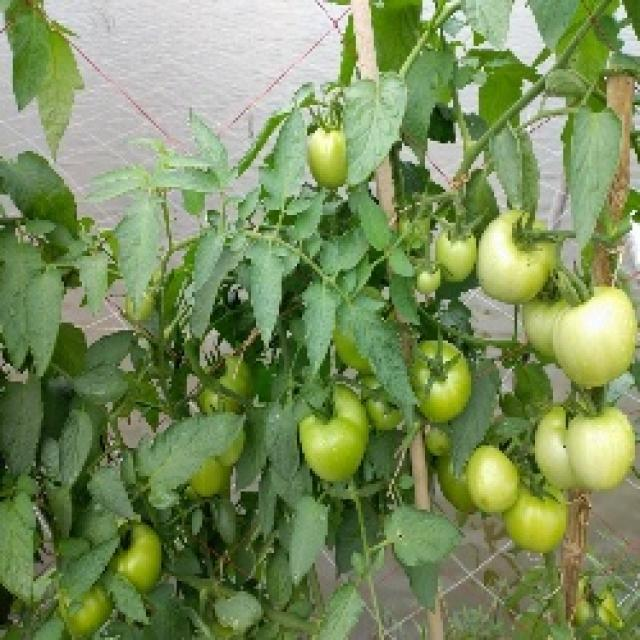tomato: (551, 277, 639, 393), (556, 395, 640, 495), (481, 206, 563, 305), (298, 393, 372, 498), (411, 334, 480, 420), (462, 439, 525, 524), (508, 277, 575, 354), (505, 478, 571, 554), (527, 403, 577, 494), (112, 520, 170, 587), (562, 580, 632, 627), (60, 587, 119, 640), (436, 214, 477, 285), (201, 355, 253, 405), (303, 132, 345, 189), (192, 454, 235, 500), (413, 265, 438, 294)
